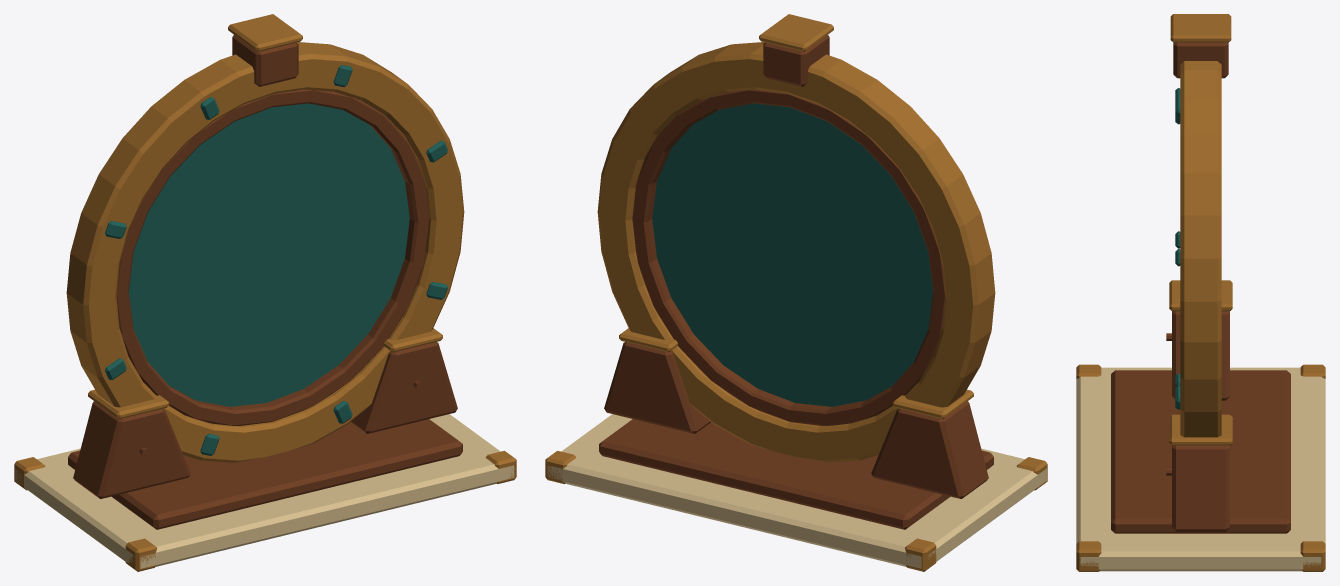
The model's file is portal_ring.obj.
3 renders of one model, left to right at view 1: azimuth 30°, elevation 25°; view 2: azimuth 150°, elevation 25°; view 3: azimuth 270°, elevation 25°, orthographic.
Visible parts, largest first — view 1: portal_ring; view 2: portal_ring; view 3: portal_ring.
Boxes of the visible parts, x1=… form: portal_ring: x1=14, y1=14, x2=516, y2=571; portal_ring: x1=545, y1=14, x2=1047, y2=571; portal_ring: x1=1076, y1=14, x2=1325, y2=571.
Size of the model in its own units: 3.2 by 3.63 by 1.8.
